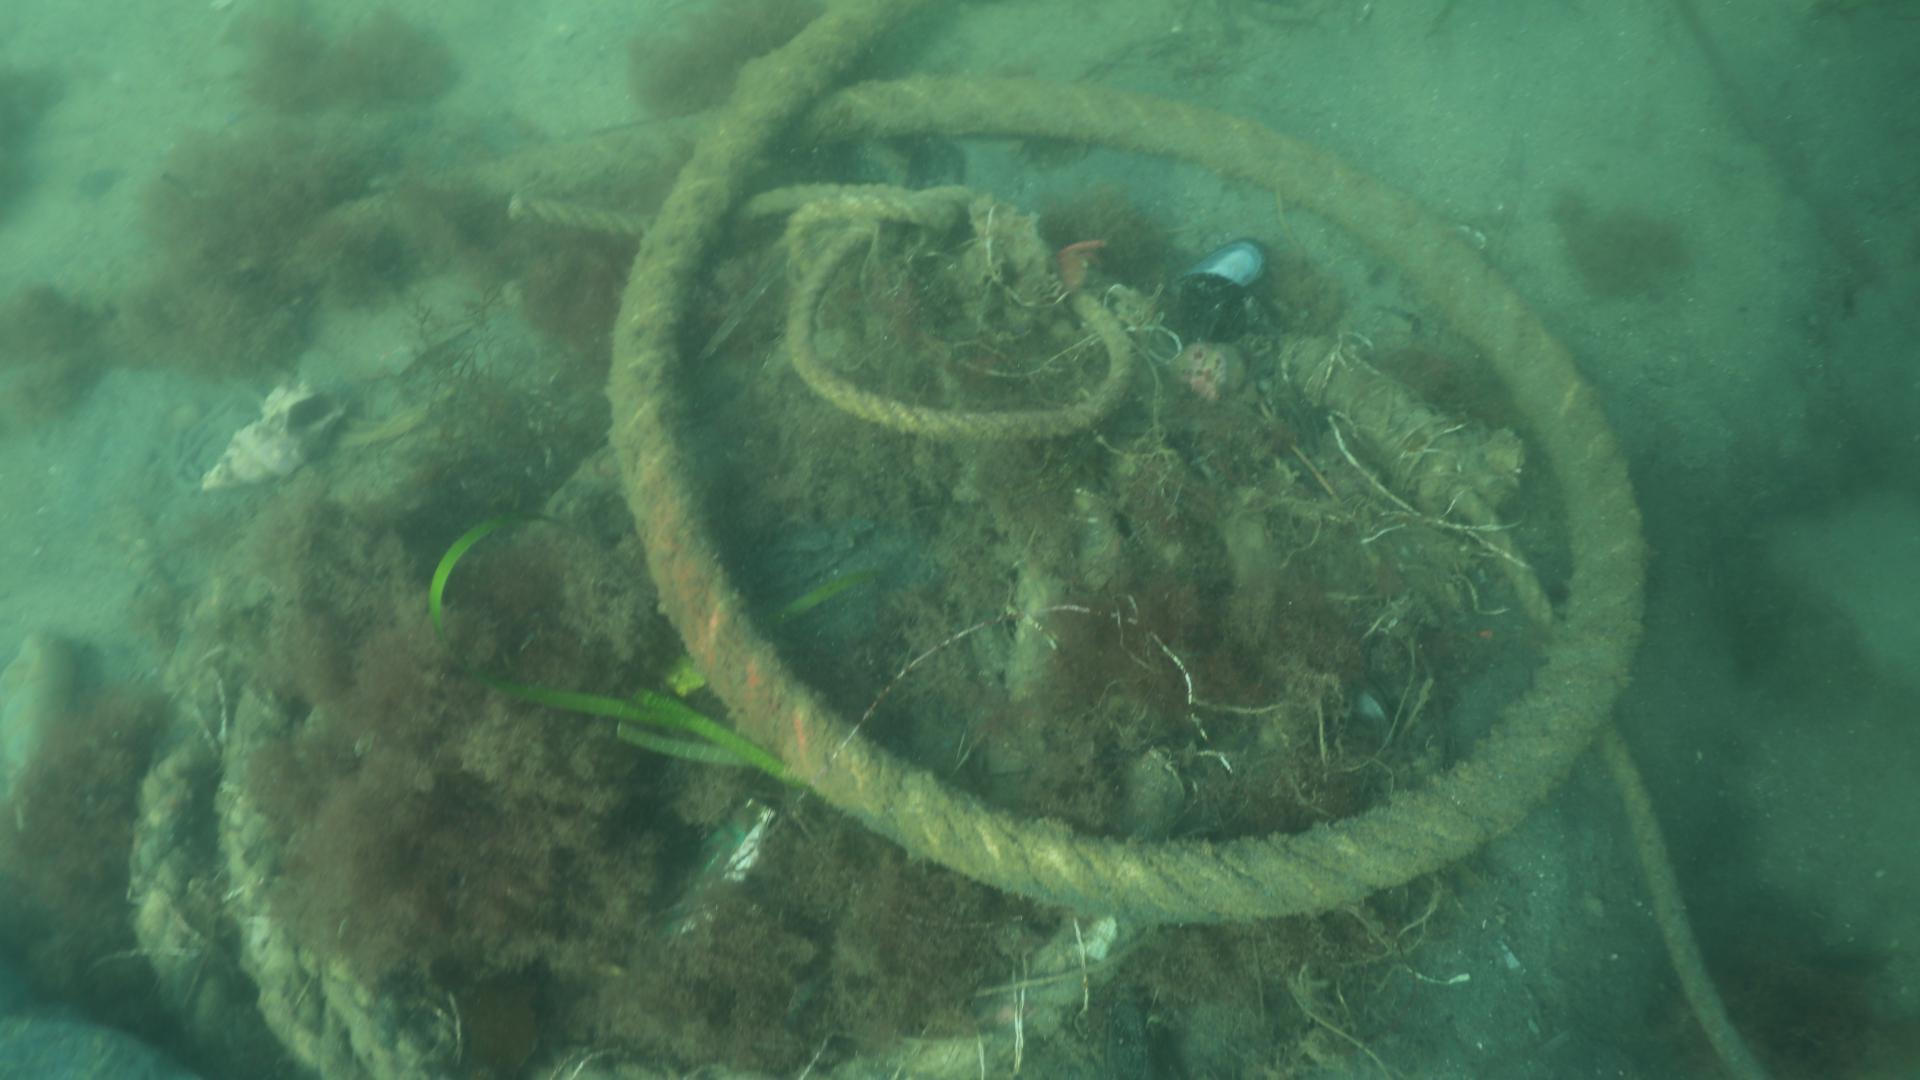bundle of ropes: (119, 0, 1799, 1080)
